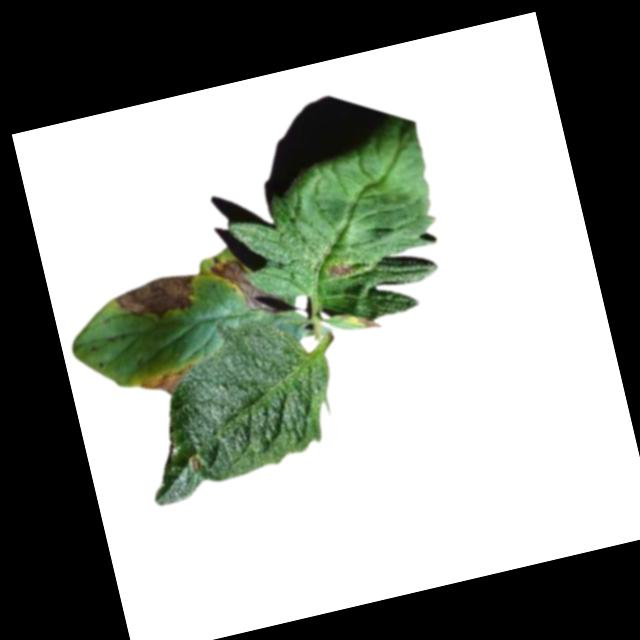Early_blight: (206, 241, 292, 327), (105, 269, 201, 331), (135, 362, 200, 402), (327, 258, 355, 282), (356, 312, 383, 334), (186, 454, 202, 472)
